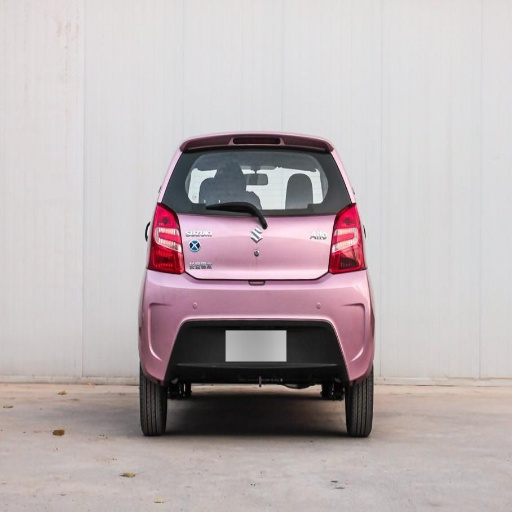back_bumper: (142, 270, 373, 394)
trunk: (181, 204, 339, 316)
